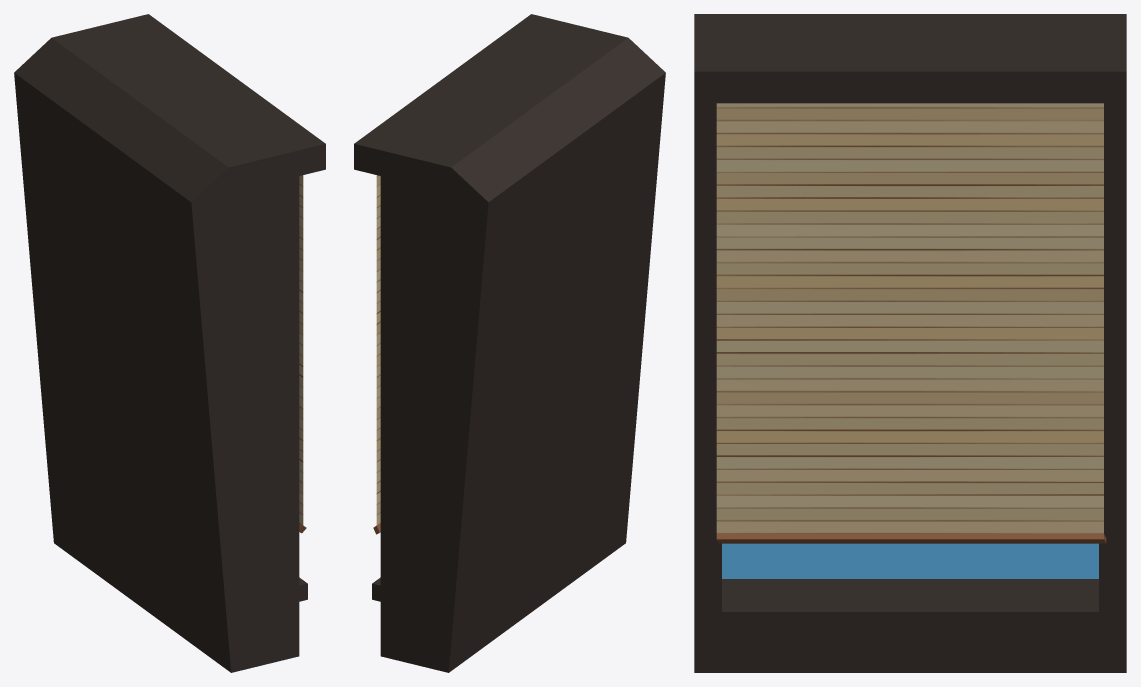
Rendered from Window.fbx.
3 views of the same model, side by side, from view 1: azimuth 30°, elevation 25°; view 2: azimuth 150°, elevation 25°; view 3: azimuth 270°, elevation 25° (orthographic). The views are drawn at different scales.
Parts seen in each view (by area): view 1: Cube; view 2: Cube; view 3: Cube.
Boxes of the visible parts, <box> form: Cube: <box>14,14,325,672</box>; Cube: <box>354,14,665,672</box>; Cube: <box>694,14,1126,672</box>.
Size of the model in its own units: 1 by 3.6 by 2.28.
